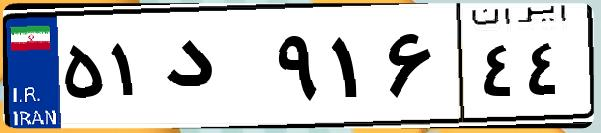1: (330, 28, 385, 110), (110, 28, 158, 98)
4: (475, 38, 525, 113), (525, 38, 570, 115)
5: (57, 26, 110, 100)
6: (385, 28, 445, 110)
9: (270, 28, 330, 110)
د: (158, 20, 270, 120)
